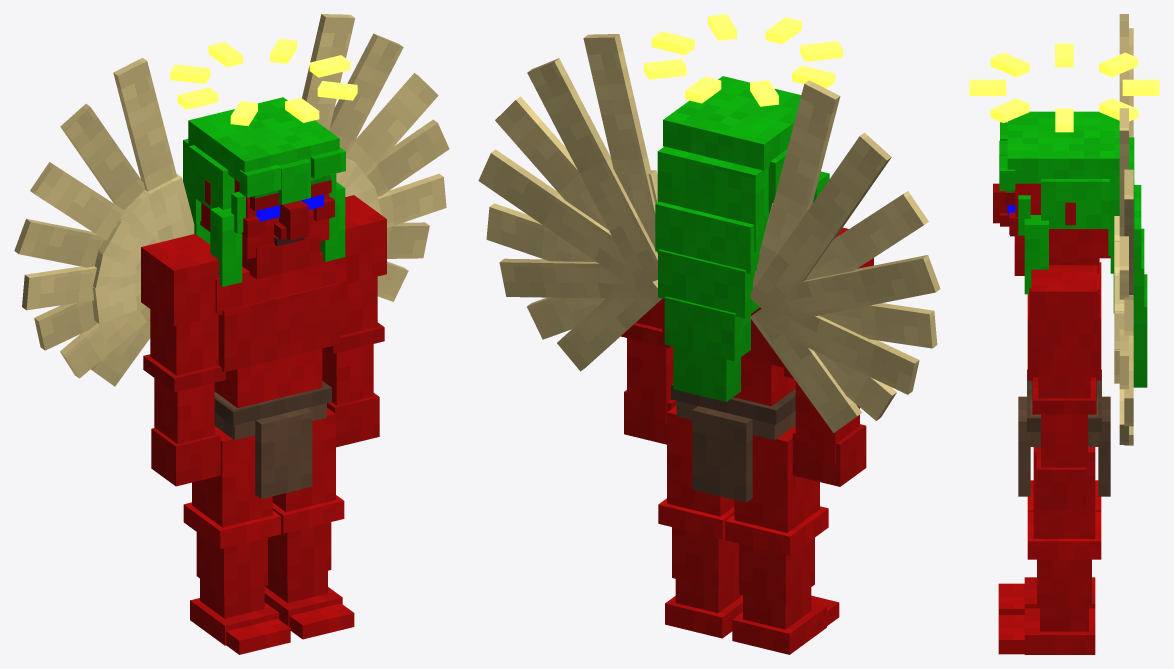
The model's file is angel_s1.glb.
3 views of the same model, side by side, from view 1: azimuth 30°, elevation 25°; view 2: azimuth 150°, elevation 25°; view 3: azimuth 270°, elevation 25° (orthographic). The views are drawn at different scales.
Visible parts, largest first — view 1: Torso, Head, ArmR, LegR, LegL, ArmL; view 2: Torso, Head, LegR, LegL, ArmL, ArmR; view 3: Head, ArmL, LegL, Torso, LegR.
Boxes of the visible parts, bbox=[...] form: Torso: bbox=[14, 14, 449, 498]; Head: bbox=[170, 38, 357, 286]; ArmR: bbox=[141, 234, 225, 486]; LegR: bbox=[183, 426, 290, 654]; LegL: bbox=[264, 407, 354, 639]; ArmL: bbox=[322, 195, 386, 447]; Torso: bbox=[478, 34, 940, 502]; Head: bbox=[644, 14, 842, 401]; LegR: bbox=[725, 425, 839, 654]; LegL: bbox=[658, 405, 742, 638]; ArmL: bbox=[620, 299, 676, 444]; ArmR: bbox=[784, 227, 873, 486]; Head: bbox=[969, 43, 1159, 387]; ArmL: bbox=[1031, 265, 1097, 509]; LegL: bbox=[998, 447, 1101, 654]; Torso: bbox=[1018, 14, 1133, 496]; LegR: bbox=[998, 480, 1101, 614].
Bounding box in the file's own units: 1.63 × 2.02 × 0.6201.
Materials: 26 (26 with a texture image).
